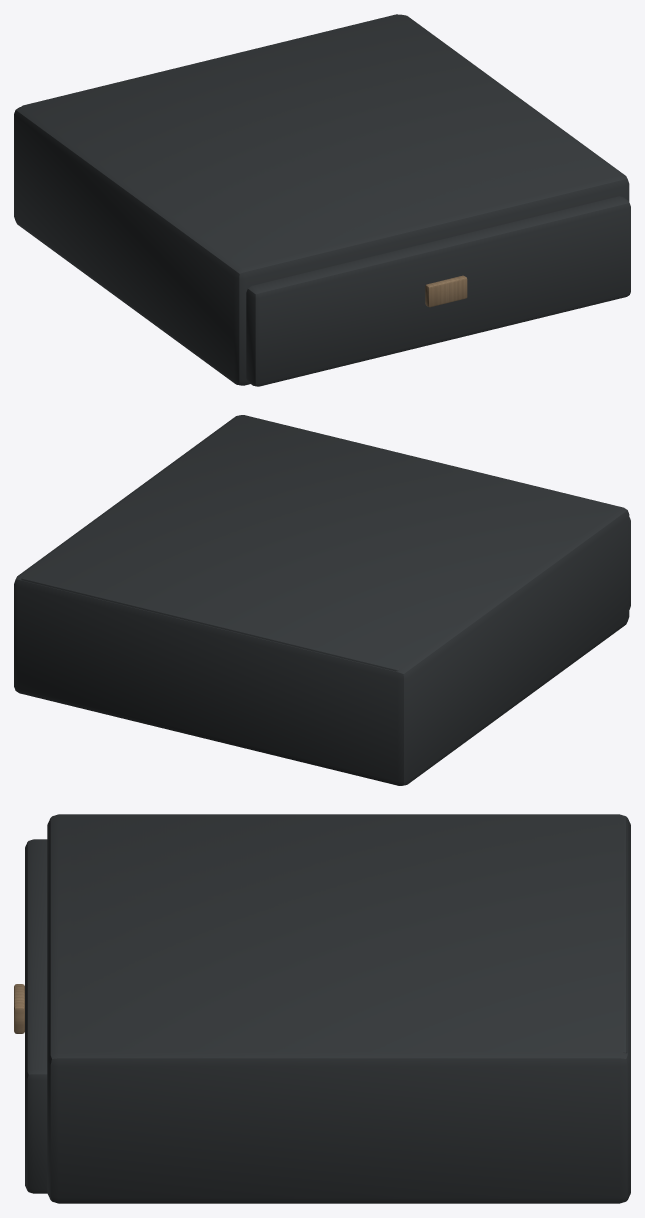
Rendered from cash_drawer_premium.glb.
3 views of the same model, one above another, from view 1: azimuth 30°, elevation 25°; view 2: azimuth 150°, elevation 25°; view 3: azimuth 270°, elevation 25° (orthographic). The views are drawn at different scales.
Parts seen in each view (by area): view 1: CashDrawer_Housing, CashDrawer_HousingTop, CashDrawer_Front, CashDrawer_Latch; view 2: CashDrawer_Housing, CashDrawer_HousingTop; view 3: CashDrawer_Housing, CashDrawer_HousingTop, CashDrawer_Front, CashDrawer_Latch.
Boxes of the visible parts, box(x1,y1,x2,y2) form: CashDrawer_Housing: box(14, 14, 629, 385); CashDrawer_HousingTop: box(21, 14, 612, 262); CashDrawer_Front: box(246, 196, 630, 386); CashDrawer_Latch: box(425, 275, 467, 307); CashDrawer_Housing: box(14, 415, 629, 785); CashDrawer_HousingTop: box(21, 419, 612, 671); CashDrawer_Housing: box(47, 814, 630, 1203); CashDrawer_HousingTop: box(71, 816, 627, 1053); CashDrawer_Front: box(25, 839, 47, 1193); CashDrawer_Latch: box(14, 984, 24, 1033).
Size of what is drawn, in the model's own units: 0.42 by 0.12 by 0.444.
4 materials, 1 textured.
